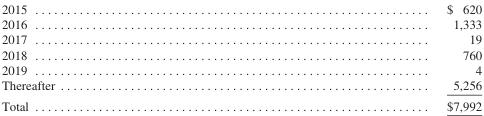table: (0, 1, 481, 112)
table column: (0, 1, 250, 112), (250, 1, 481, 112)
table row: (0, 77, 481, 95), (0, 95, 481, 112), (0, 46, 481, 62), (0, 1, 481, 16), (0, 16, 481, 31), (0, 31, 481, 46), (0, 62, 481, 77)
